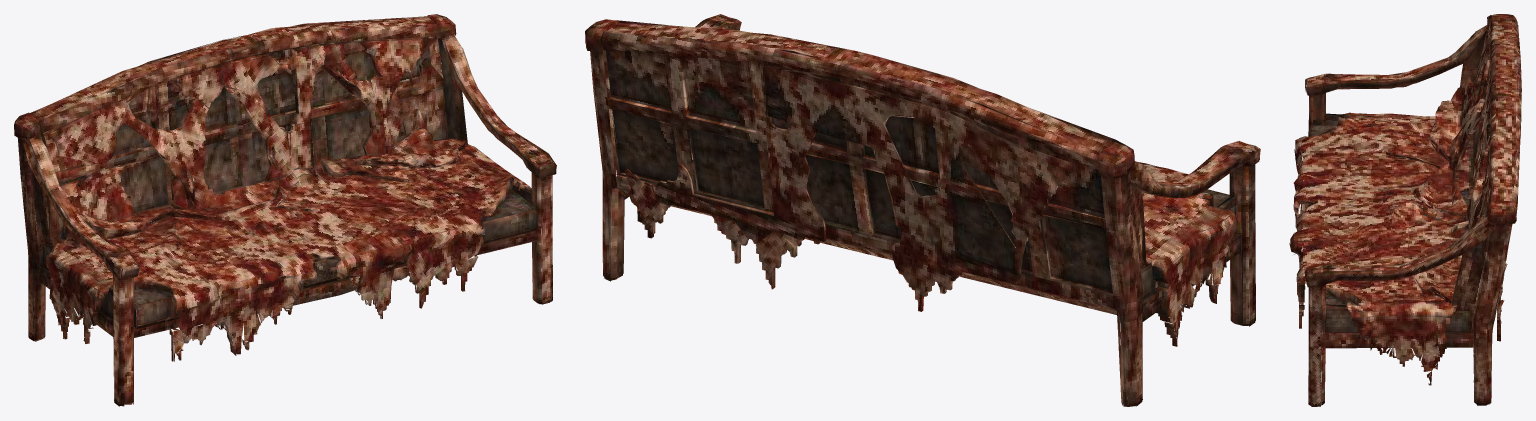
File: m_sofa.glb
3 renders of one model, left to right at view 1: azimuth 30°, elevation 25°; view 2: azimuth 150°, elevation 25°; view 3: azimuth 270°, elevation 25°, orthographic. The views are drawn at different scales.
Visible parts, largest first — view 1: tripo_770f9d9d_1840_4eca_bfbf_e497b87dde54; view 2: tripo_770f9d9d_1840_4eca_bfbf_e497b87dde54; view 3: tripo_770f9d9d_1840_4eca_bfbf_e497b87dde54.
Part boxes in pixels (x1,y1,x2,y2): tripo_770f9d9d_1840_4eca_bfbf_e497b87dde54: (14, 14, 556, 406); tripo_770f9d9d_1840_4eca_bfbf_e497b87dde54: (585, 14, 1260, 406); tripo_770f9d9d_1840_4eca_bfbf_e497b87dde54: (1289, 14, 1521, 406).
Size of the model in its own units: 0.9997 by 0.5128 by 0.4876.
1 material, 1 textured.
